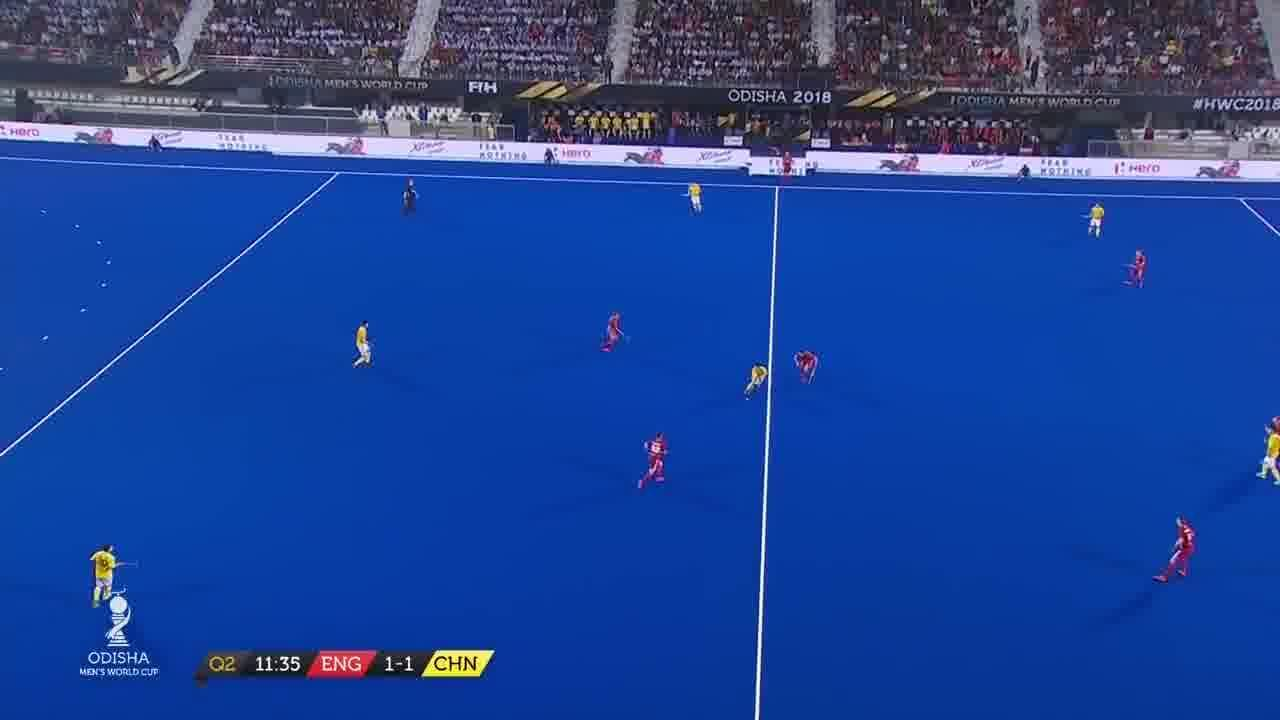ball: (739, 397, 752, 406)
